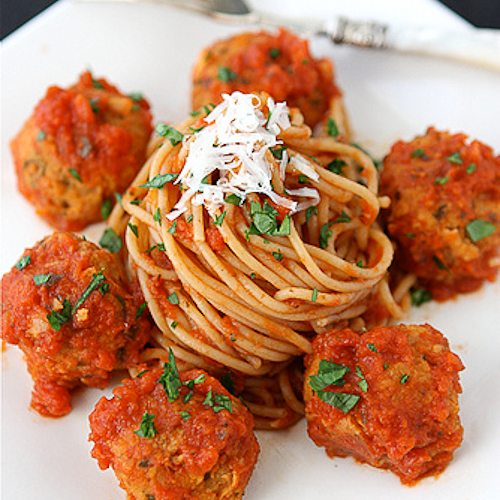meatballs: (311, 334, 460, 472), (5, 251, 127, 386), (103, 377, 236, 500), (23, 84, 142, 218), (379, 146, 500, 271), (196, 36, 332, 116)
plain spaghetti: (123, 124, 384, 378)
